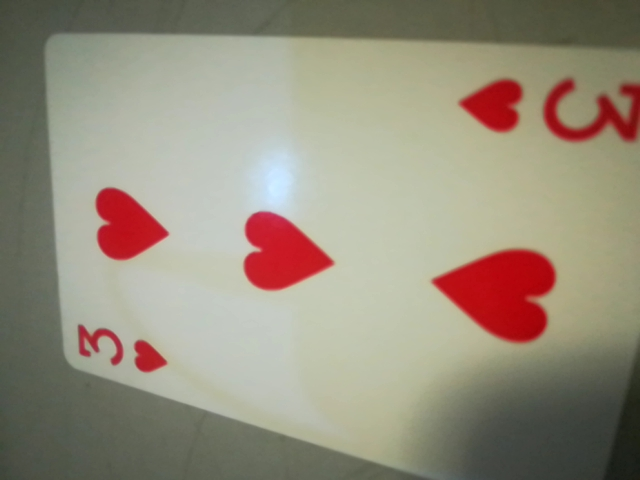hx 3: (458, 63, 640, 154)
